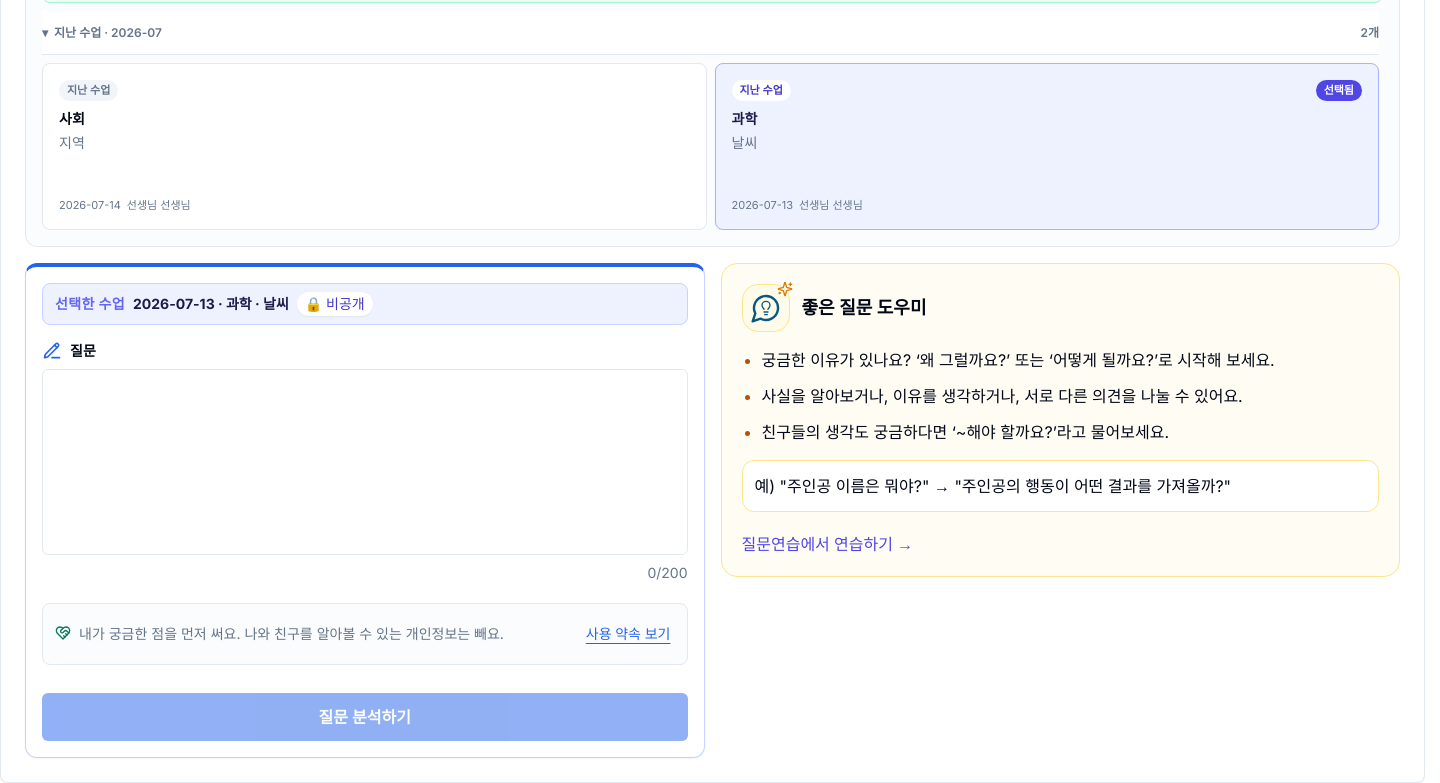
Test: 학생 질문 분석 결과 › 일시적인 busy 기본 분석은 한 번 자동 재시도해 인공지능 결과로 복구한다
(page scrolled)
Type "광합성에 필요한 것은 무엇인가요?" into the text box labelled "질문" at coordinates (365, 462), box [42,369,688,555]
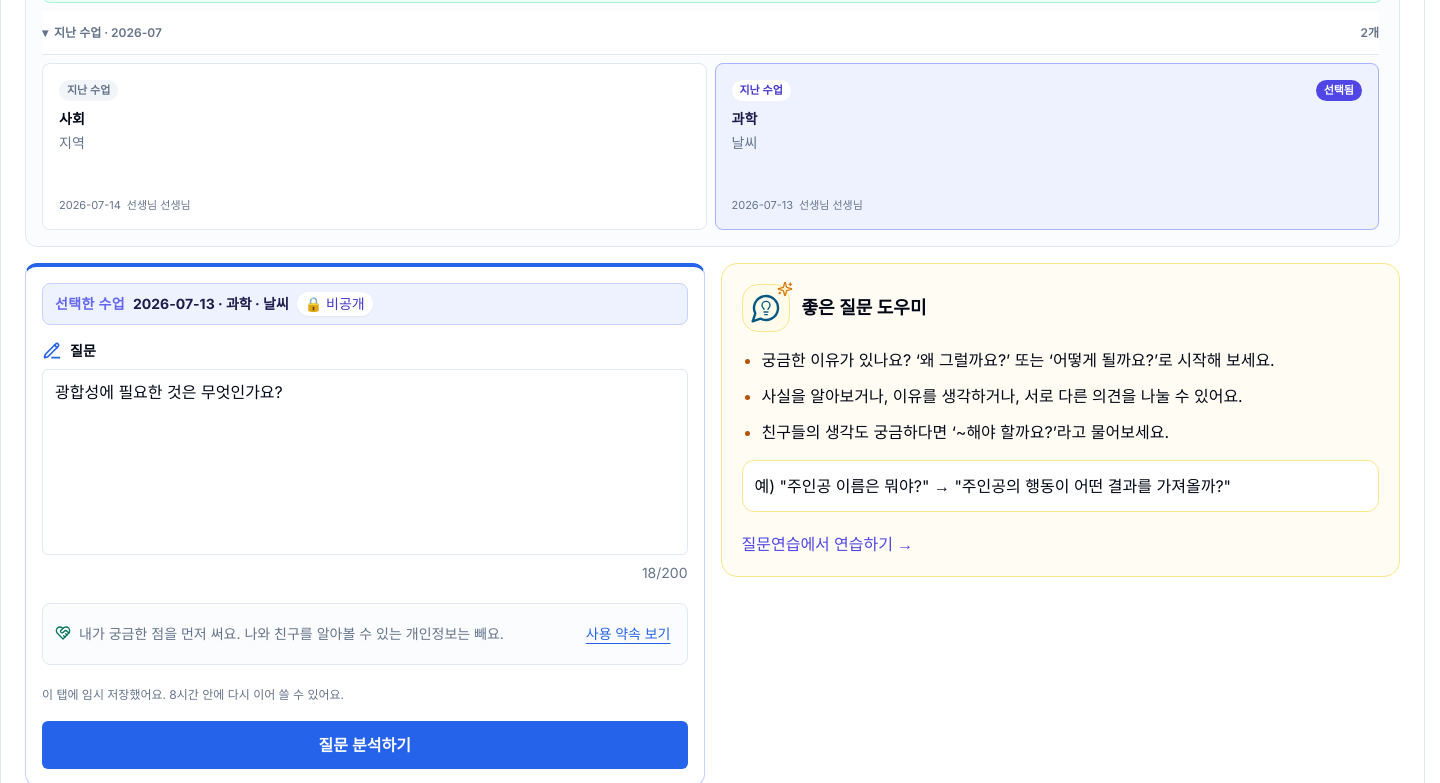
Click the button "질문 분석하기" at coordinates (365, 745), box [42,721,688,769]
(page scrolled)
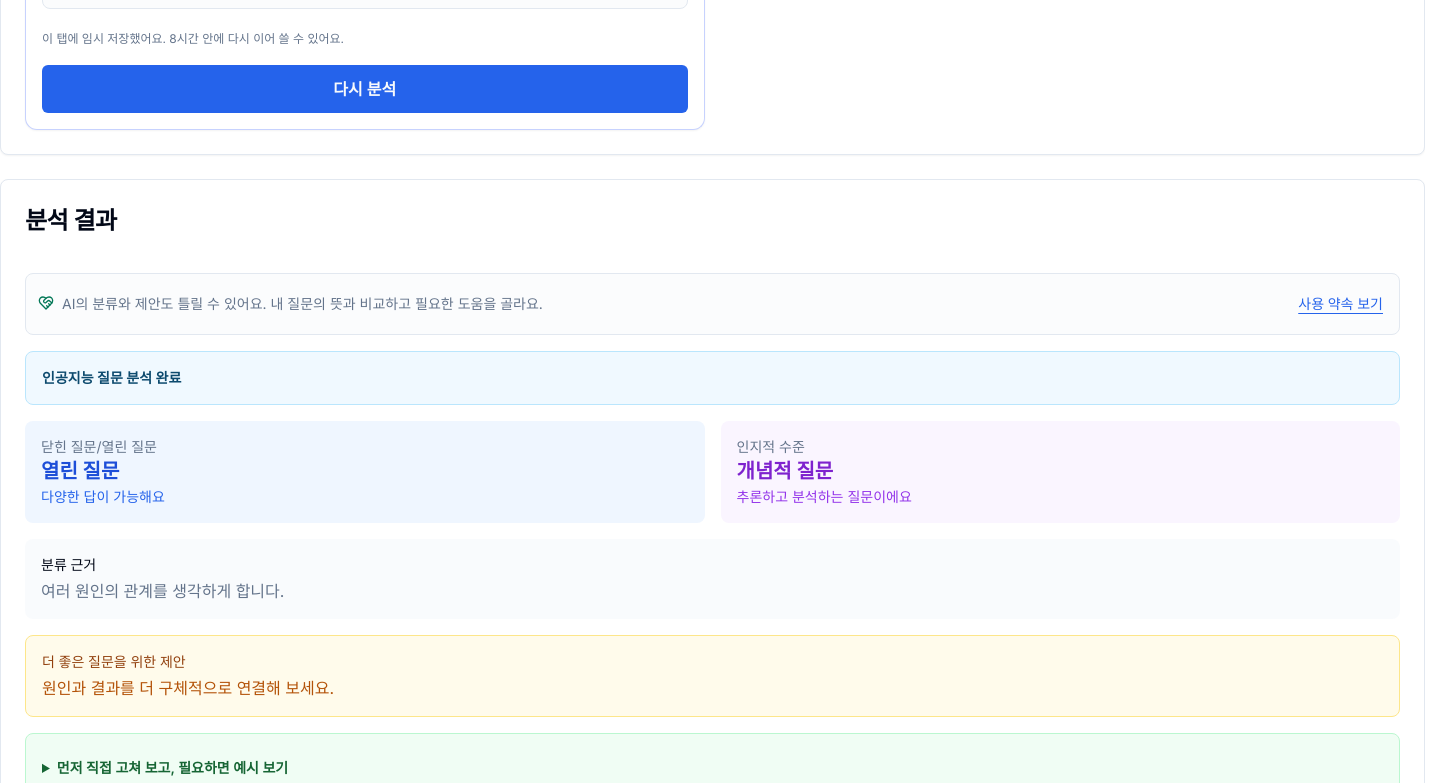
Expected: the text "인공지능 질문 분석 완료" is shown, [42,369,181,386]
